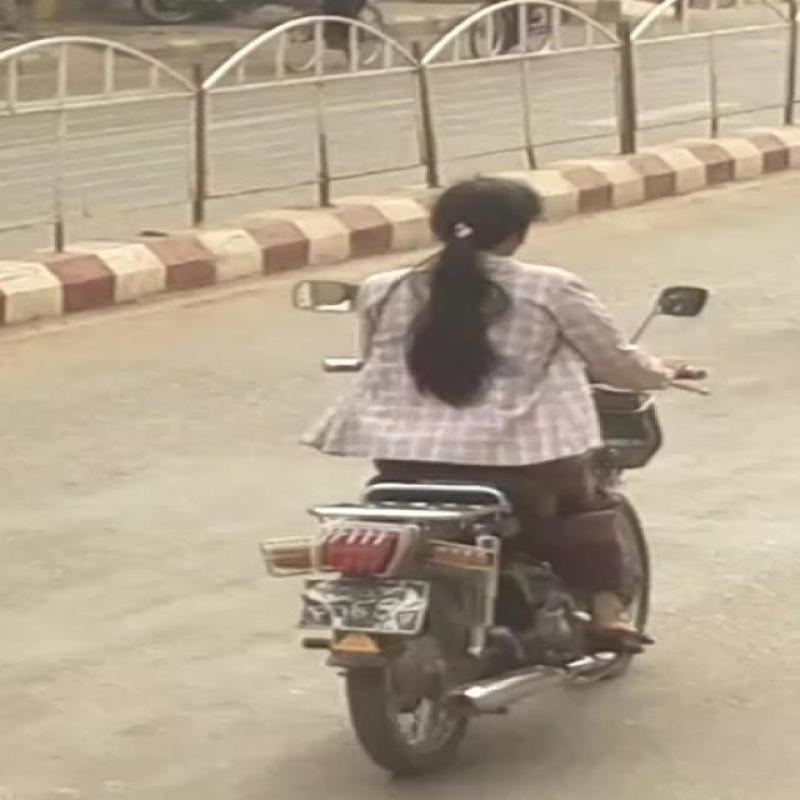nohelmet: (417, 163, 552, 262)
